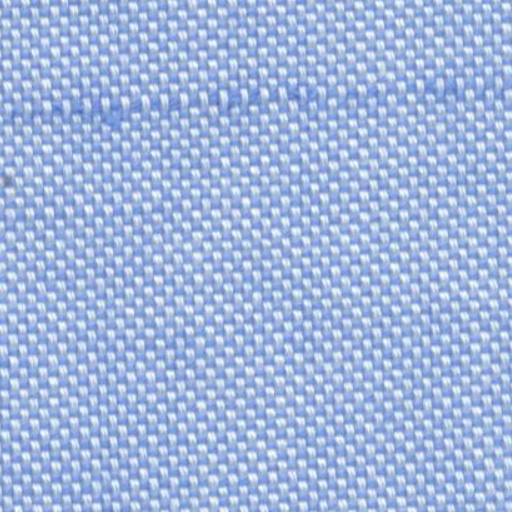DaiSha: (8, 76, 390, 123)
